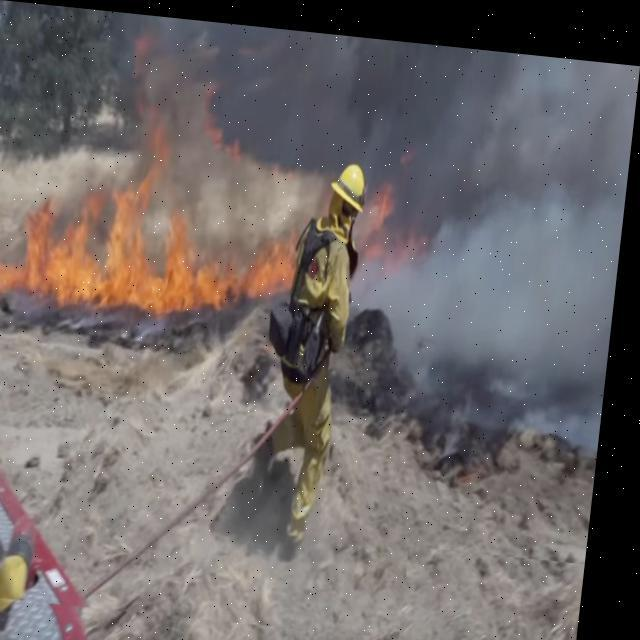Fire: (0, 97, 314, 356), (370, 172, 434, 252), (199, 80, 250, 159)
